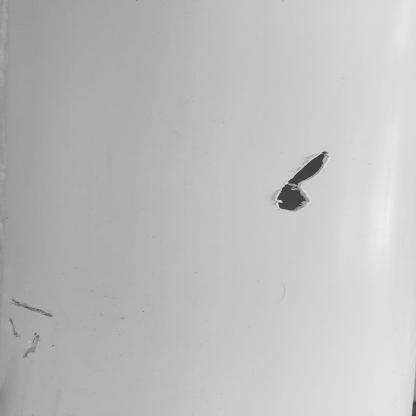fengxi: (8, 301, 54, 320), (23, 334, 40, 361), (7, 320, 19, 342)
kongdong: (274, 150, 330, 213)
